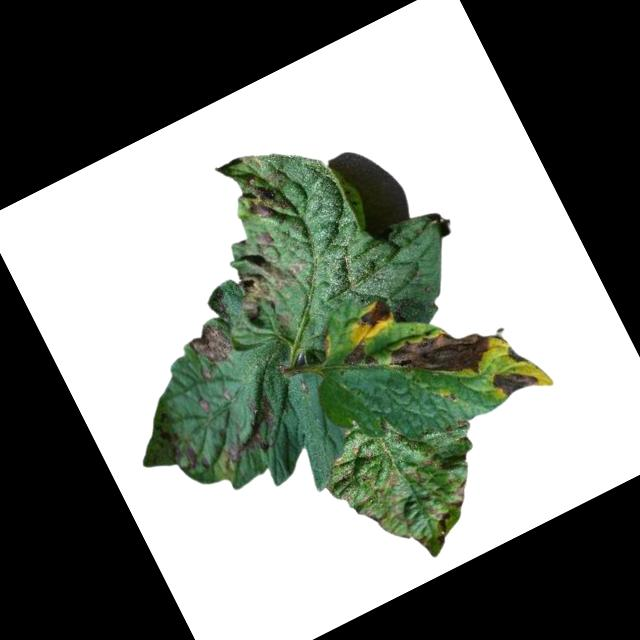Early_blight: (383, 303, 502, 407), (213, 224, 307, 319), (199, 385, 294, 474), (234, 165, 296, 227), (183, 314, 238, 372), (488, 357, 541, 404), (355, 291, 399, 337), (421, 498, 461, 546), (339, 336, 381, 377), (178, 440, 214, 478), (439, 478, 477, 511), (505, 342, 527, 367)
